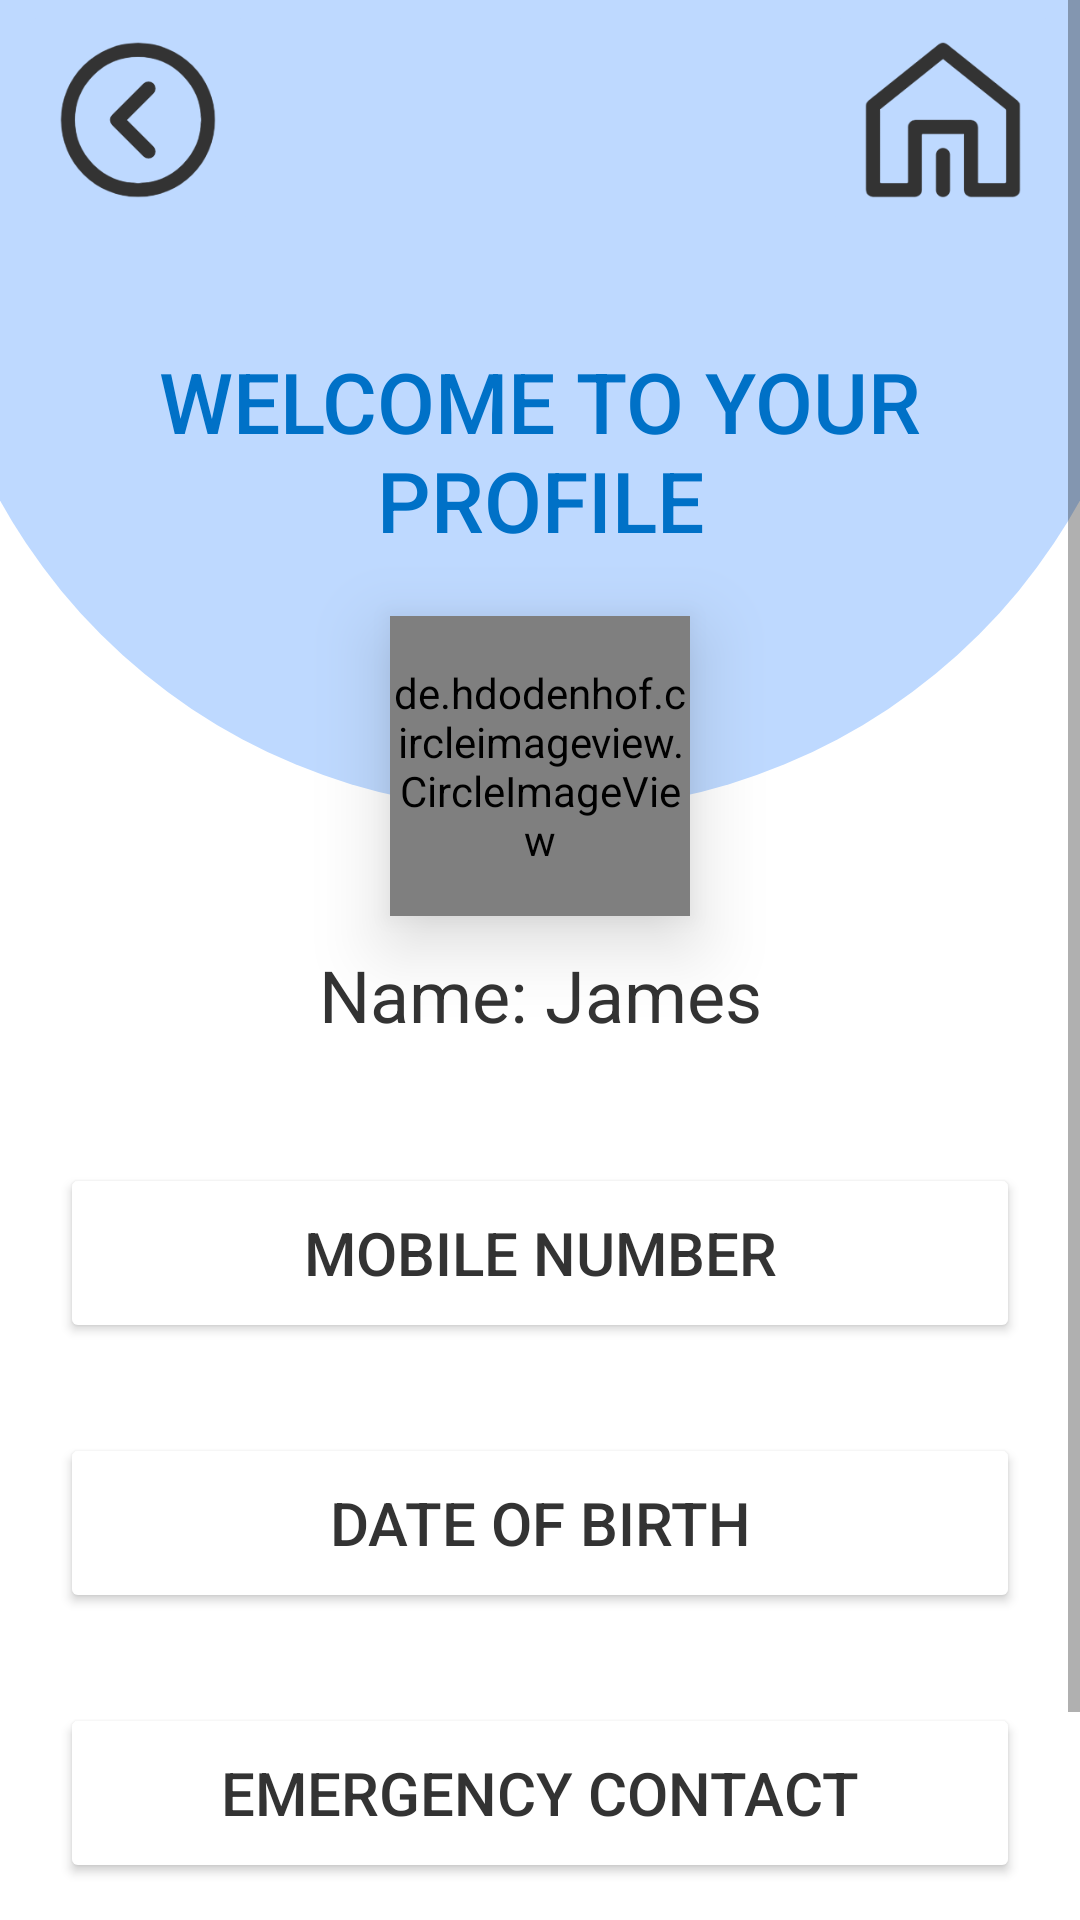

Icons on this 1080×1920 Android screen, each with the point to tap as point (x, y):
home: point (943, 120)
